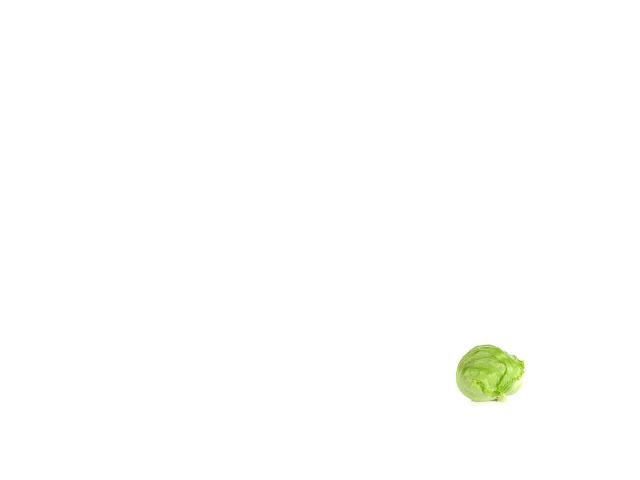lettuce: (449, 338, 532, 402)
